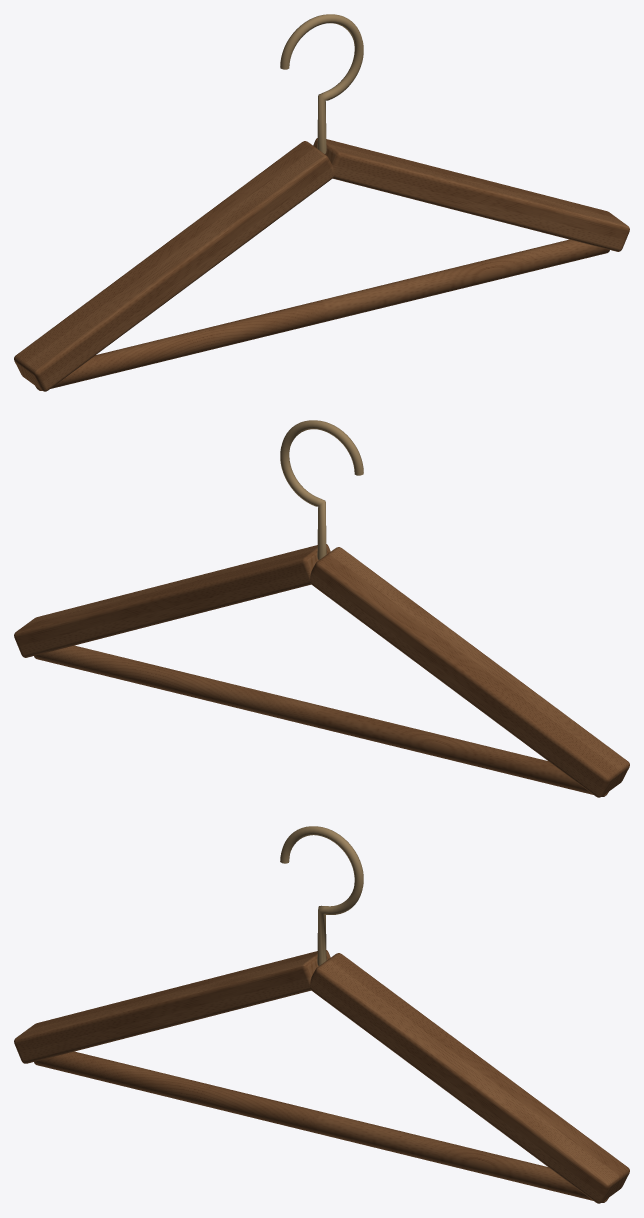
Rendered from innerscene-shoulder-form.glb.
3 views of the same model, one above another, from view 1: azimuth 30°, elevation 25°; view 2: azimuth 150°, elevation 25°; view 3: azimuth 330°, elevation 25° (orthographic).
Visible parts, largest first — view 1: Left carved hanger shoulder, Trouser hanging bar, Right carved hanger shoulder, Curved hanger suspension hook; view 2: Left carved hanger shoulder, Trouser hanging bar, Right carved hanger shoulder, Curved hanger suspension hook; view 3: Right carved hanger shoulder, Trouser hanging bar, Left carved hanger shoulder, Curved hanger suspension hook.
Part boxes in pixels (x1,y1,x2,y2): Left carved hanger shoulder: (14, 141, 333, 391); Trouser hanging bar: (35, 239, 609, 390); Right carved hanger shoulder: (313, 138, 629, 251); Curved hanger suspension hook: (280, 14, 363, 153); Left carved hanger shoulder: (310, 547, 629, 797); Trouser hanging bar: (34, 645, 608, 796); Right carved hanger shoulder: (14, 544, 330, 657); Curved hanger suspension hook: (280, 420, 363, 559); Right carved hanger shoulder: (310, 953, 629, 1203); Trouser hanging bar: (34, 1051, 608, 1202); Left carved hanger shoulder: (14, 950, 330, 1063); Curved hanger suspension hook: (280, 826, 363, 965).
Bounding box in the file's own units: 0.4318 × 0.212 × 0.03.
Materials: 3 (3 with a texture image).
